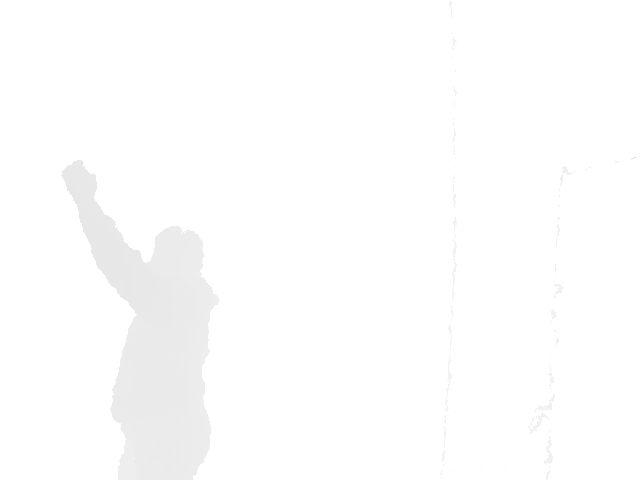hand: (61, 158, 98, 198)
head: (148, 226, 205, 275)
person: (61, 159, 221, 480)
